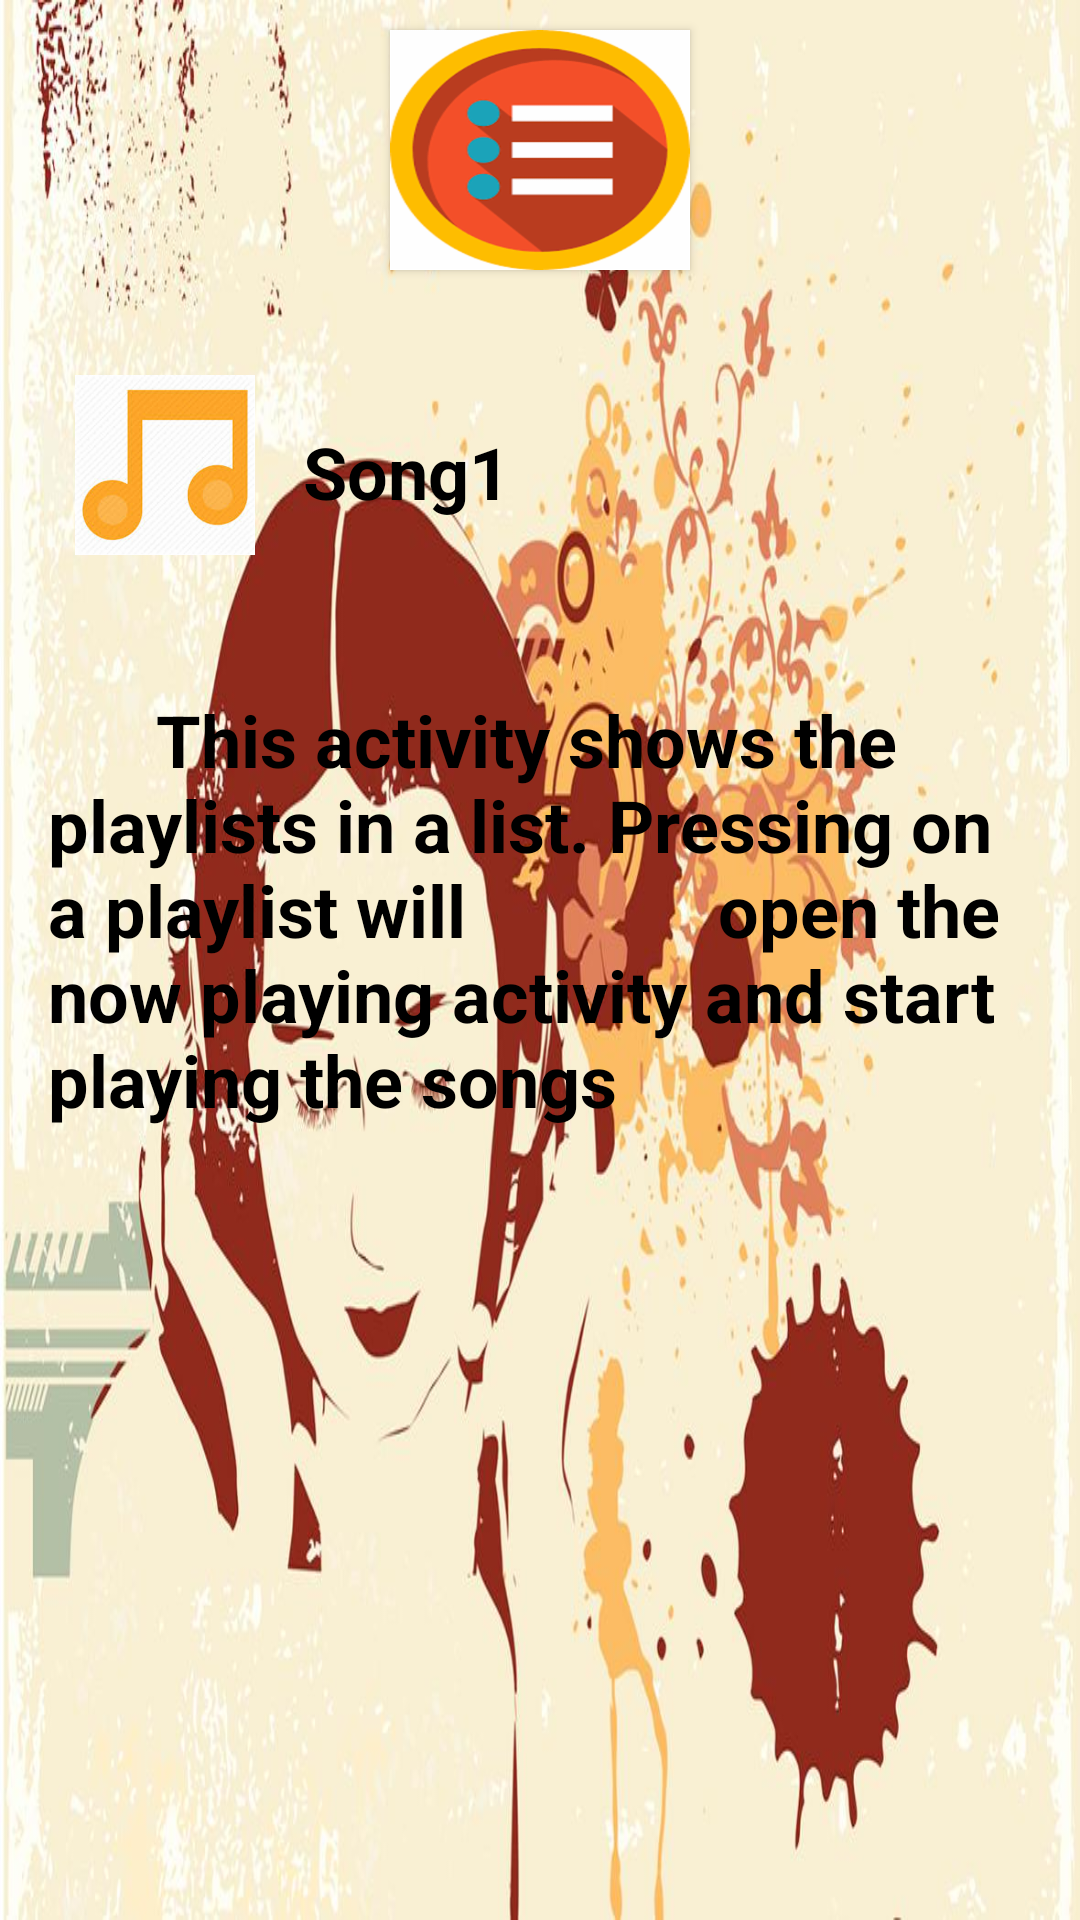

Point at icon controls on the screen. Image size 1080w x 1920h, points as (x=x, y=y).
musiclist: (x=540, y=150)
